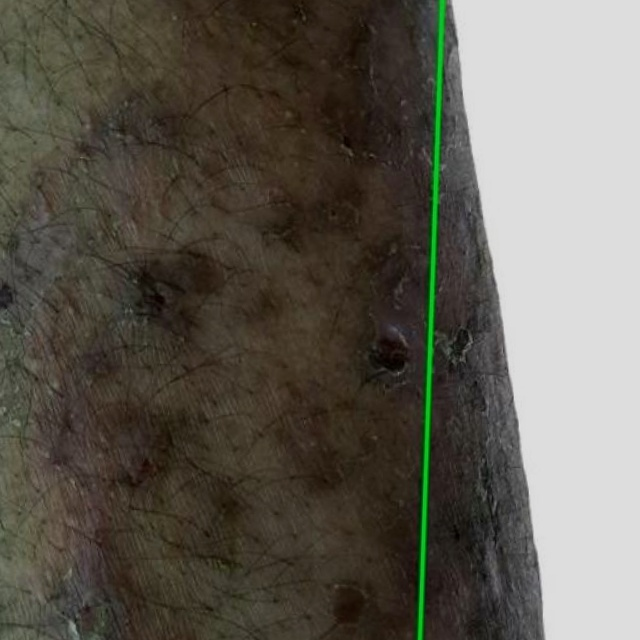Tinea Corporis: (419, 0, 639, 639)
